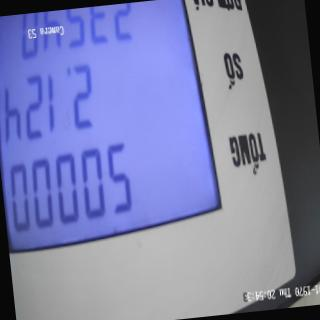screen: (0, 0, 232, 268)
